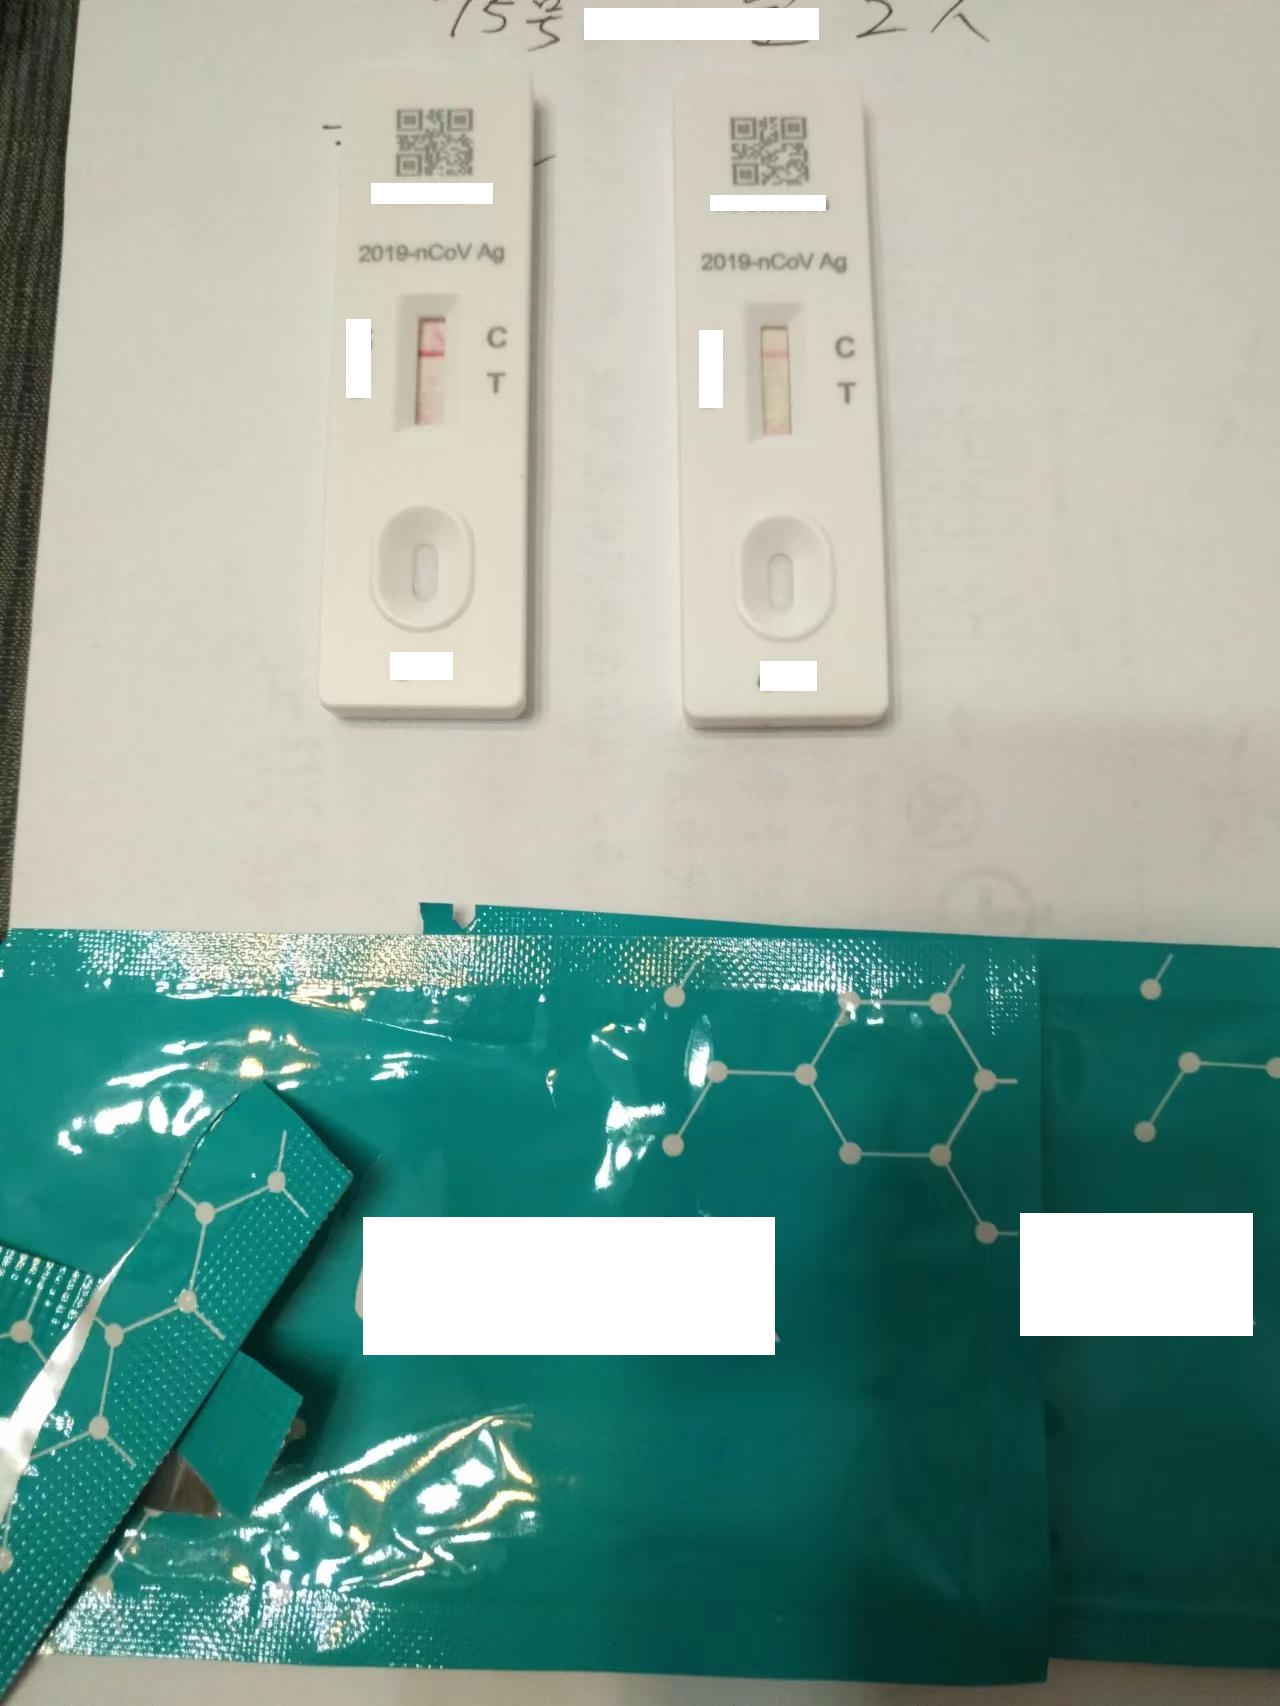negative: (748, 298, 801, 446), (399, 296, 454, 437)
